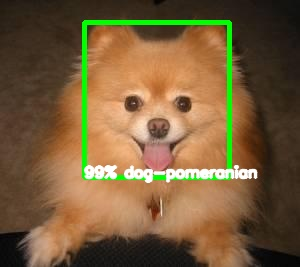dog-pomeranian: (82, 22, 235, 181)
